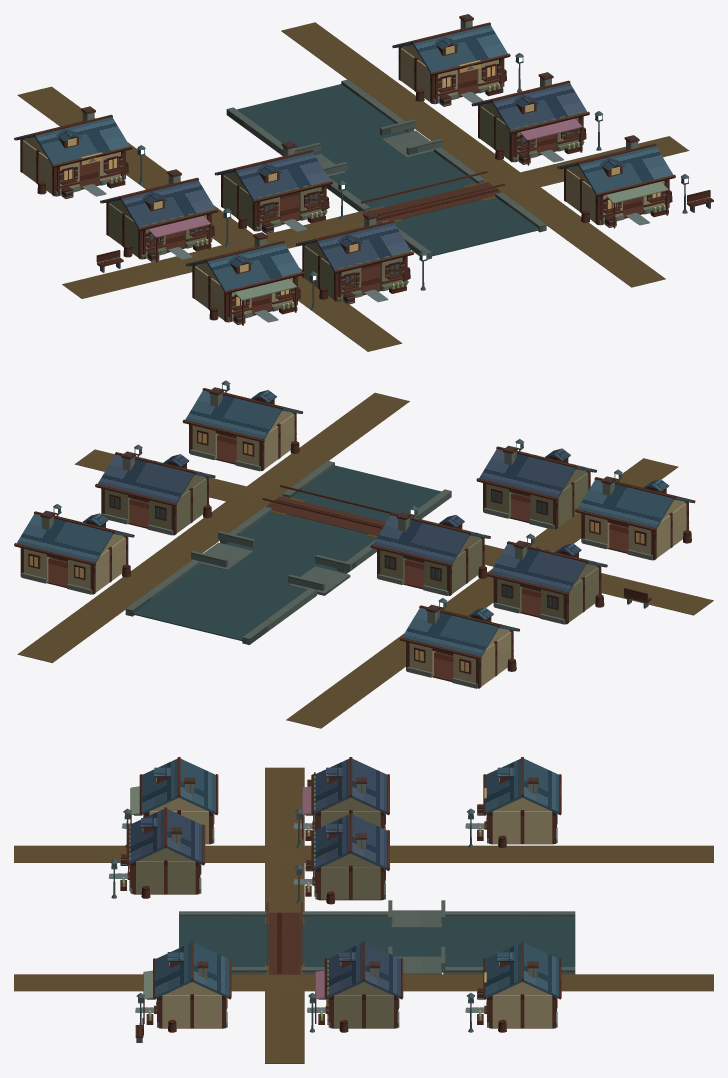
Rendered from broken_bridge.glb.
3 renders of one model, top to bottom at view 1: azimuth 30°, elevation 25°; view 2: azimuth 150°, elevation 25°; view 3: azimuth 270°, elevation 25°, orthographic. The views are drawn at different scales.
Visible parts, largest first — view 1: Ravine, _MeshInstance3D_4419, Street, _MeshInstance3D_4420, _MeshInstance3D_4395, _MeshInstance3D_4135, _MeshInstance3D_4265, _MeshInstance3D_4005, _MeshInstance3D_3934, _MeshInstance3D_4194, _MeshInstance3D_4323, _MeshInstance3D_4063 (+17 smaller); view 2: Ravine, _MeshInstance3D_4419, Street, _MeshInstance3D_4643, _MeshInstance3D_4749, _MeshInstance3D_4860, _MeshInstance3D_4678, _MeshInstance3D_4714, _MeshInstance3D_4824, _MeshInstance3D_4787, RoofSlope, _MeshInstance3D_4420 (+15 smaller); view 3: Ravine, Street, _MeshInstance3D_4419, _MeshInstance3D_4420, _MeshInstance3D_4421, DetourFootbridge, _MeshInstance3D_4764, _MeshInstance3D_4839, _MeshInstance3D_4728, _MeshInstance3D_4624, _MeshInstance3D_4801, SideWall (+22 smaller).
Boxes of the visible parts, x1,y1,x2,y2 form: Ravine: (237, 84, 543, 256); _MeshInstance3D_4419: (281, 22, 665, 287); Street: (17, 86, 402, 351); _MeshInstance3D_4420: (62, 206, 402, 298); _MeshInstance3D_4395: (579, 146, 673, 193); _MeshInstance3D_4135: (207, 243, 301, 290); _MeshInstance3D_4265: (413, 24, 507, 72); _MeshInstance3D_4005: (35, 117, 129, 164); _MeshInstance3D_3934: (235, 152, 330, 200); _MeshInstance3D_4194: (317, 222, 411, 270); _MeshInstance3D_4323: (492, 83, 587, 130); _MeshInstance3D_4063: (121, 180, 215, 227); Ravine: (129, 465, 441, 641); _MeshInstance3D_4419: (17, 392, 409, 662); Street: (286, 458, 678, 728); _MeshInstance3D_4643: (402, 607, 498, 656); _MeshInstance3D_4749: (479, 449, 575, 497); _MeshInstance3D_4860: (185, 390, 281, 439); _MeshInstance3D_4678: (490, 543, 586, 592); _MeshInstance3D_4714: (577, 479, 673, 528); _MeshInstance3D_4824: (97, 454, 193, 503); _MeshInstance3D_4787: (17, 513, 112, 562); RoofSlope: (373, 515, 469, 563); _MeshInstance3D_4420: (367, 521, 713, 615); Ravine: (179, 917, 575, 972); Street: (14, 845, 713, 862); _MeshInstance3D_4419: (14, 974, 713, 991); _MeshInstance3D_4420: (265, 767, 304, 924); _MeshInstance3D_4421: (265, 963, 304, 1063); DetourFootbridge: (269, 912, 300, 974); _MeshInstance3D_4764: (492, 995, 552, 1028); _MeshInstance3D_4839: (162, 995, 221, 1028); _MeshInstance3D_4728: (136, 861, 195, 894); _MeshInstance3D_4624: (492, 811, 552, 843); _MeshInstance3D_4801: (334, 995, 393, 1028); SideWall: (321, 867, 380, 899).
Size of the model in its own units: 53 by 5.02 by 53.
95 materials, 10 textured.
